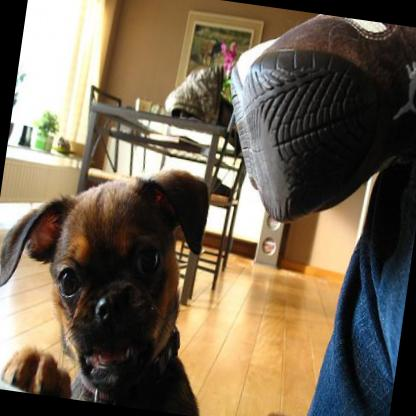Brabancon_griffon: (0, 144, 332, 416)
